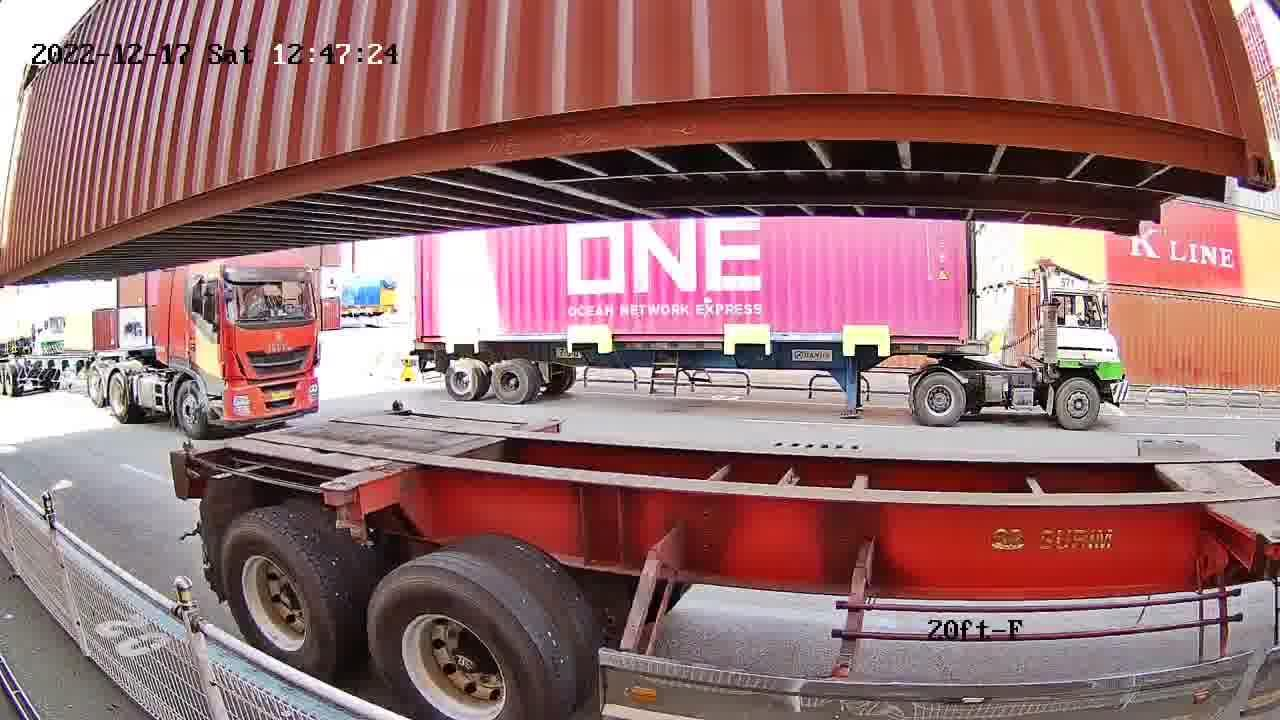Cone: (170, 440, 197, 491), (383, 397, 408, 415)
Hole_L: (1197, 113, 1279, 185)
Tire: (369, 567, 542, 710), (219, 523, 338, 672)
